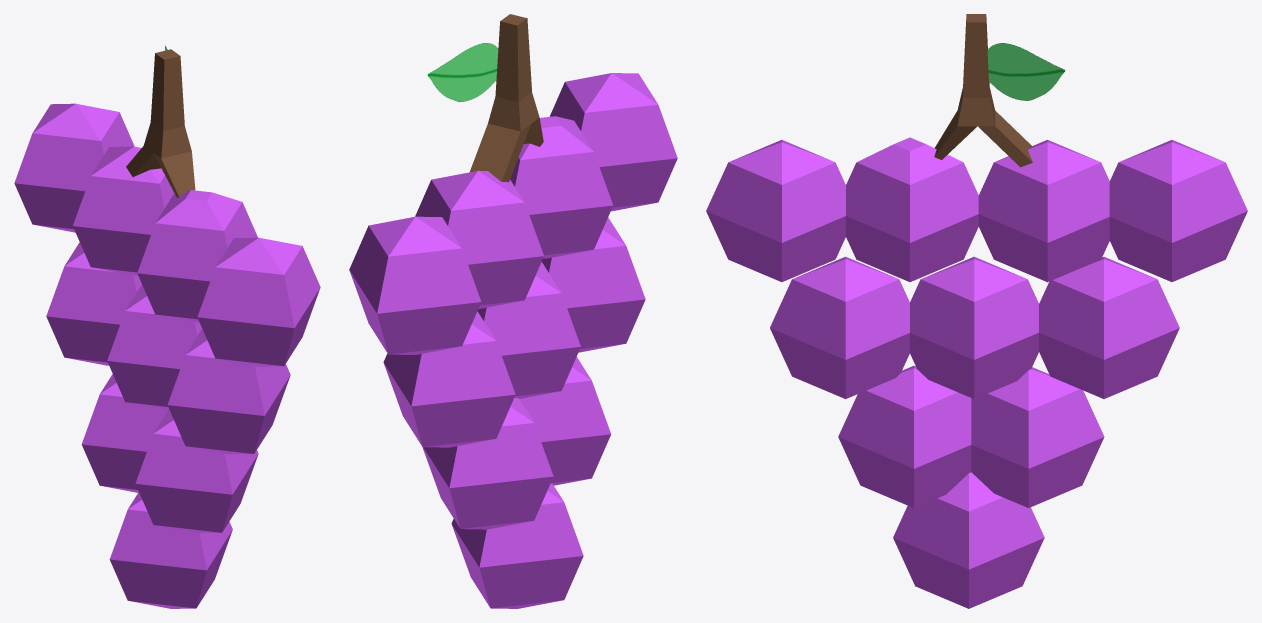
The model's file is uvas.fbx.
The picture shows the model from 3 angles, left to right: view 1: azimuth 30°, elevation 25°; view 2: azimuth 150°, elevation 25°; view 3: azimuth 270°, elevation 25°; orthographic projection. The views are drawn at different scales.
Parts seen in each view (by area): view 1: Sphere.009; view 2: Sphere.009; view 3: Sphere.009.
Boxes of the visible parts, box(x1,y1,x2,y2) form: Sphere.009: box(14, 45, 320, 608); Sphere.009: box(349, 14, 677, 608); Sphere.009: box(706, 14, 1247, 608).
Bounding box in the file's own units: 89.6 × 383 × 320.
